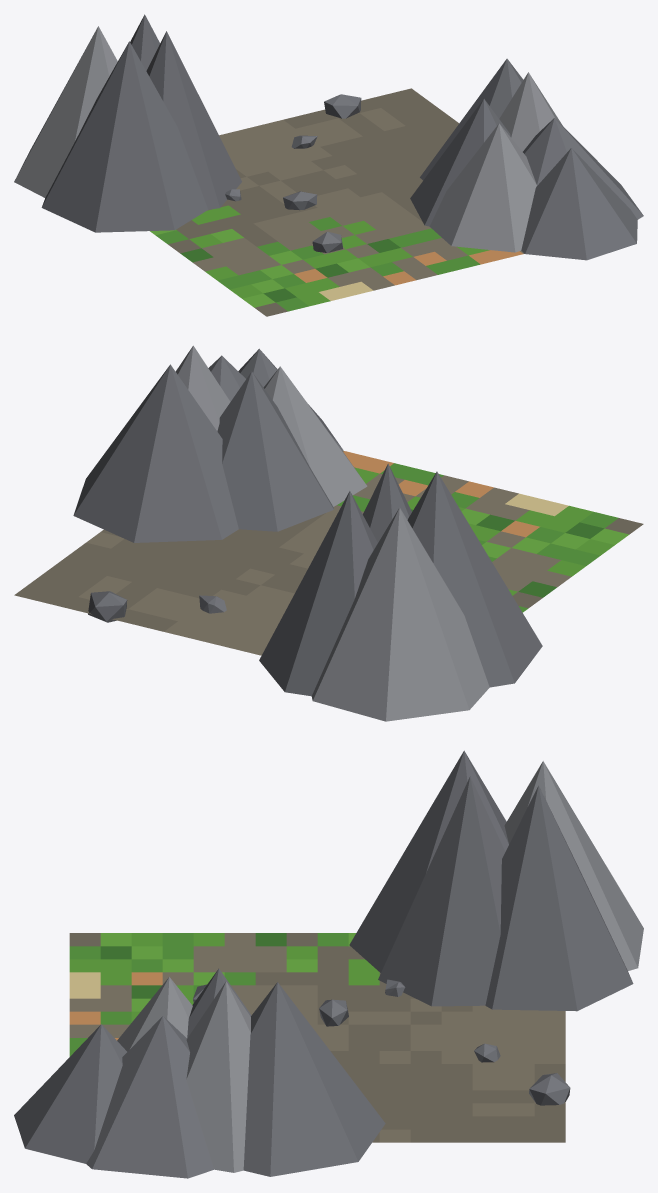
File: chunk_8_19.glb
The picture shows the model from 3 angles, top to bottom: view 1: azimuth 30°, elevation 25°; view 2: azimuth 150°, elevation 25°; view 3: azimuth 270°, elevation 25°; orthographic projection. The views are drawn at different scales.
Parts seen in each view (by area): view 1: chunk_8_19; view 2: chunk_8_19; view 3: chunk_8_19.
Boxes of the visible parts, left/top/right/bottom form: chunk_8_19: left=14, top=14, right=643, bottom=316; chunk_8_19: left=14, top=345, right=643, bottom=721; chunk_8_19: left=14, top=750, right=643, bottom=1178.
Size of the model in its own units: 21.41 by 7.44 by 20.33.
